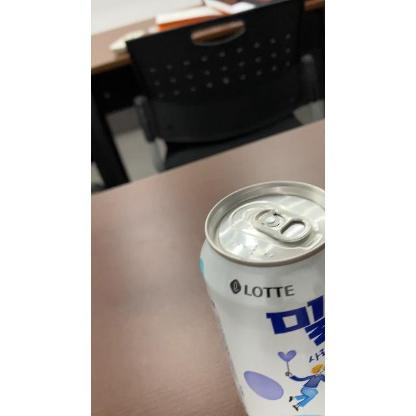Can: (196, 176, 324, 416)
